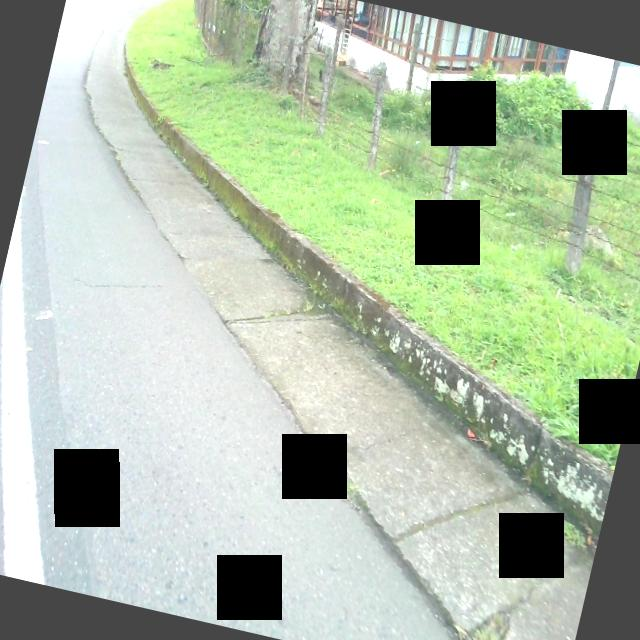DITCH: (0, 0, 640, 640), (0, 48, 640, 640), (0, 55, 640, 640)
